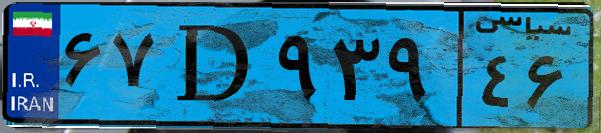3: (330, 28, 385, 110)
4: (475, 38, 525, 113)
6: (57, 26, 110, 100), (525, 38, 570, 115)
7: (110, 28, 158, 98)
9: (270, 28, 330, 110), (385, 28, 445, 110)
D: (158, 12, 270, 120)
